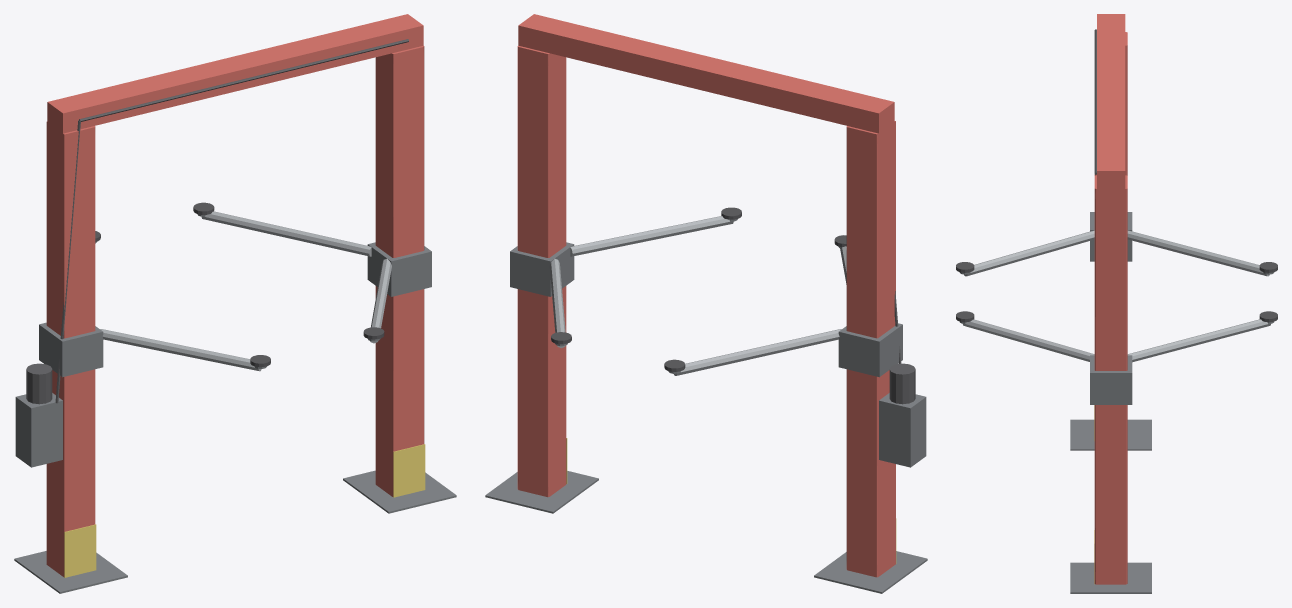
Rendered from lift_up.glb.
3 renders of one model, left to right at view 1: azimuth 30°, elevation 25°; view 2: azimuth 150°, elevation 25°; view 3: azimuth 270°, elevation 25°, orthographic. The views are drawn at different scales.
Visible parts, largest first — view 1: lift_up_lift_r, lift_up_steel_d, lift_up_steel, lift_up_paint_y, lift_up_dark, lift_up_rubber; view 2: lift_up_lift_r, lift_up_steel_d, lift_up_steel, lift_up_dark, lift_up_rubber; view 3: lift_up_lift_r, lift_up_steel_d, lift_up_steel, lift_up_rubber, lift_up_dark.
Part boxes in pixels (x1,y1,x2,y2): lift_up_lift_r: (46, 14, 424, 577); lift_up_steel_d: (14, 214, 456, 593); lift_up_steel: (95, 211, 391, 371); lift_up_paint_y: (64, 444, 425, 577); lift_up_dark: (26, 39, 408, 404); lift_up_rubber: (95, 202, 384, 367); lift_up_lift_r: (517, 14, 895, 577); lift_up_steel_d: (485, 219, 927, 593); lift_up_steel: (549, 216, 846, 375); lift_up_dark: (889, 291, 915, 404); lift_up_rubber: (551, 207, 846, 371); lift_up_lift_r: (1094, 14, 1127, 584); lift_up_steel_d: (959, 212, 1274, 593); lift_up_steel: (963, 230, 1270, 362); lift_up_rubber: (956, 262, 1277, 322); lift_up_dark: (1094, 29, 1096, 174).
Size of the model in its own units: 3.62 by 3.92 by 2.76.
